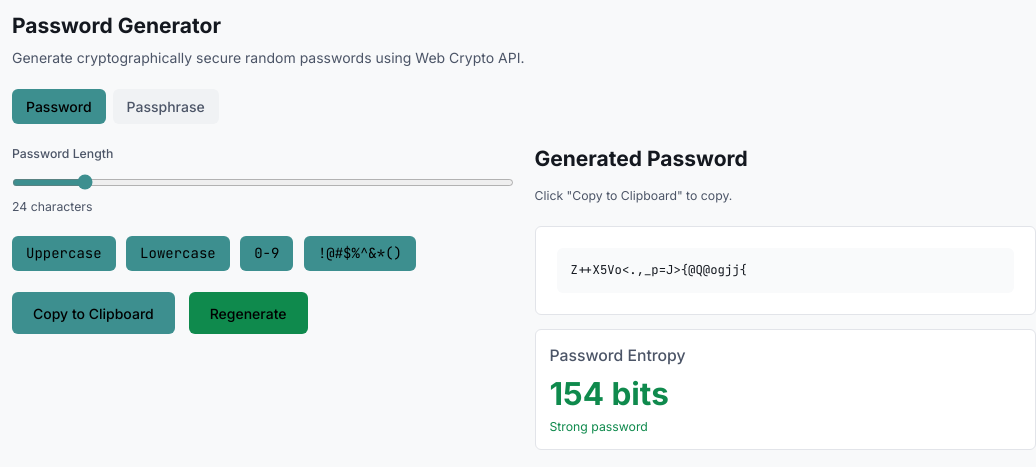
Test: PasswordGenerator › passphrase mode generates output with word separators
Click the button "Passphrase": (166, 106) [113,89,219,124]
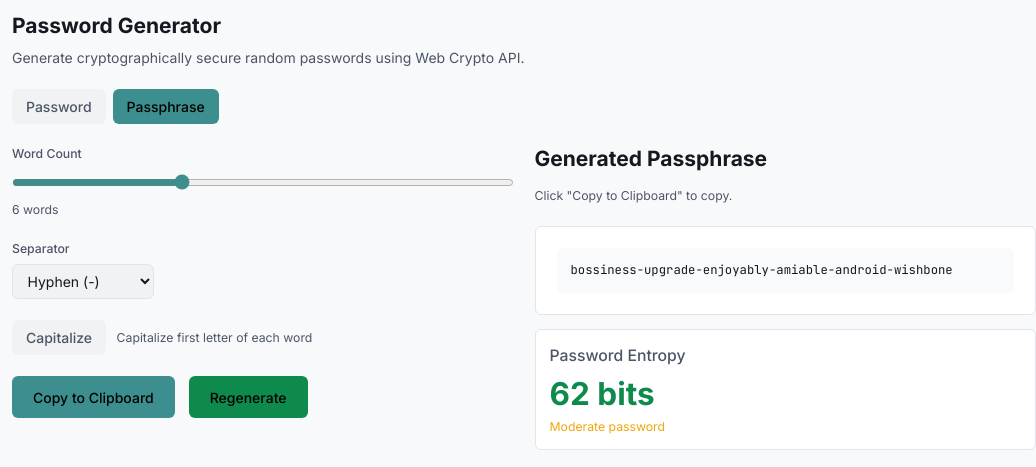
expect the text with class "font-mono" shows "-": met, box [556,248,1014,293]
